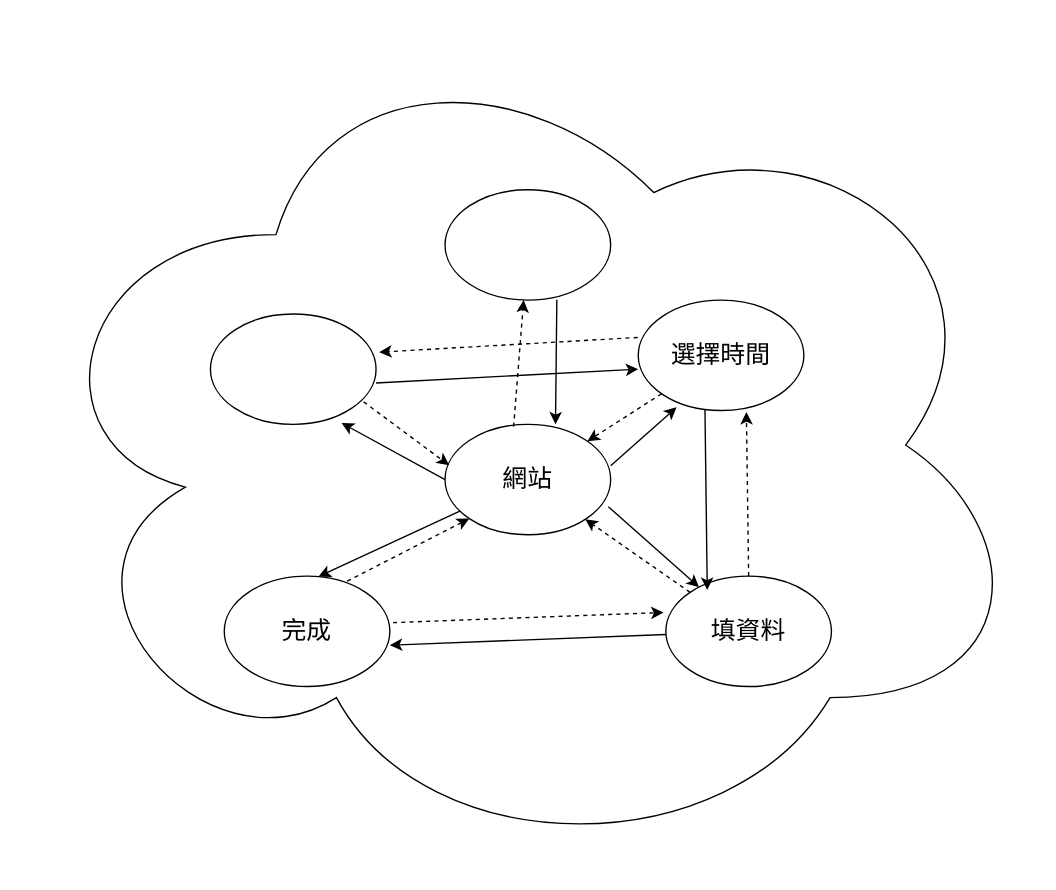
Image size: 1056x890. Some labels were removed from this diagram. The centre of each missing label's shape, as x and y in pixels:
"掛號" goes at point (292, 368).
"病患" goes at point (527, 244).
